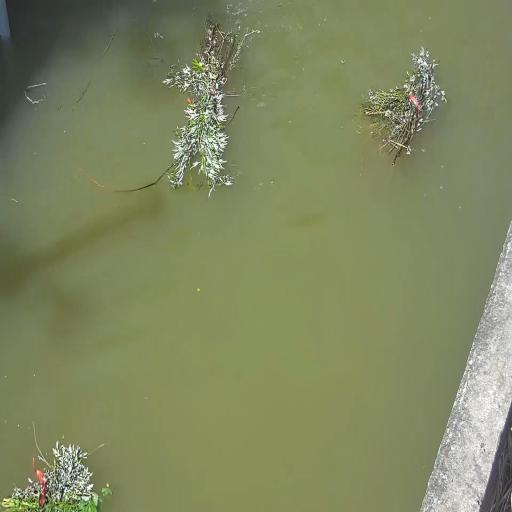twig: (164, 8, 252, 197), (356, 46, 444, 170), (0, 425, 112, 510)
